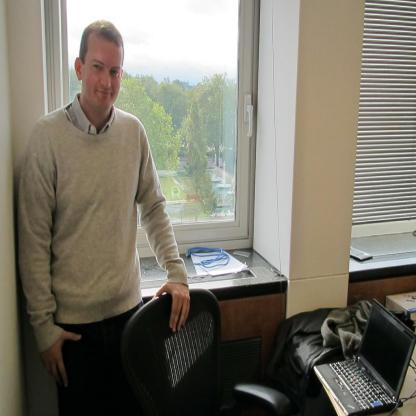board: (313, 298, 416, 415)
